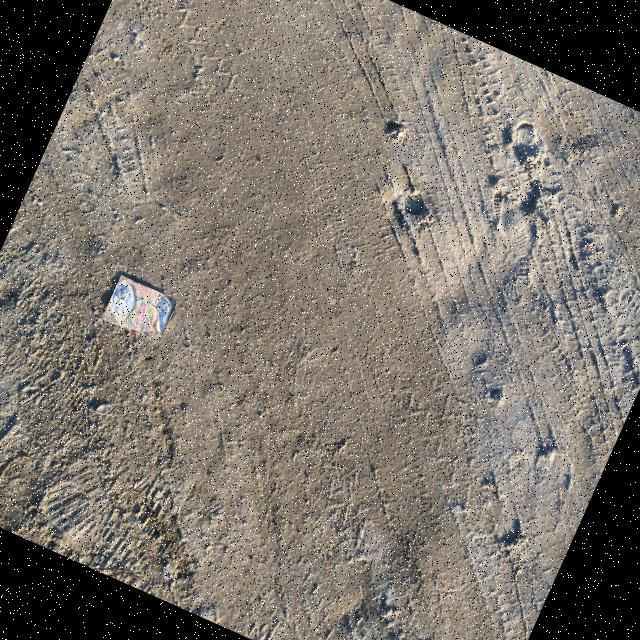Drink can: (111, 282, 172, 334)
Pop tab: (118, 285, 127, 299)
